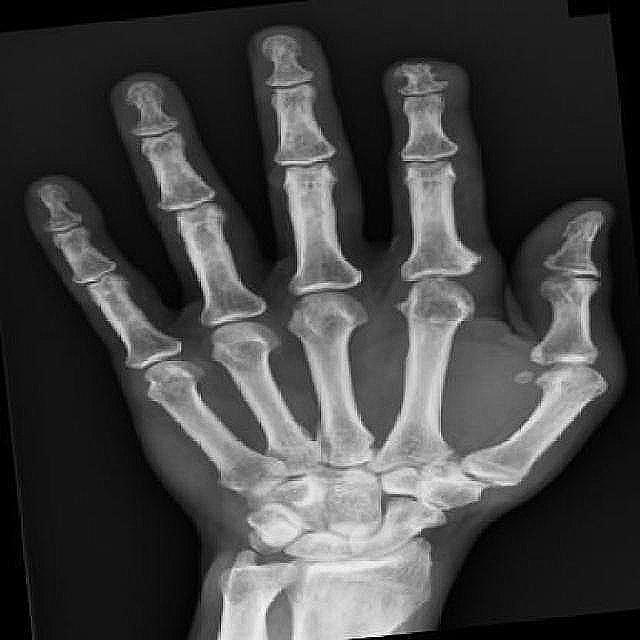bone: (390, 50, 444, 99)
